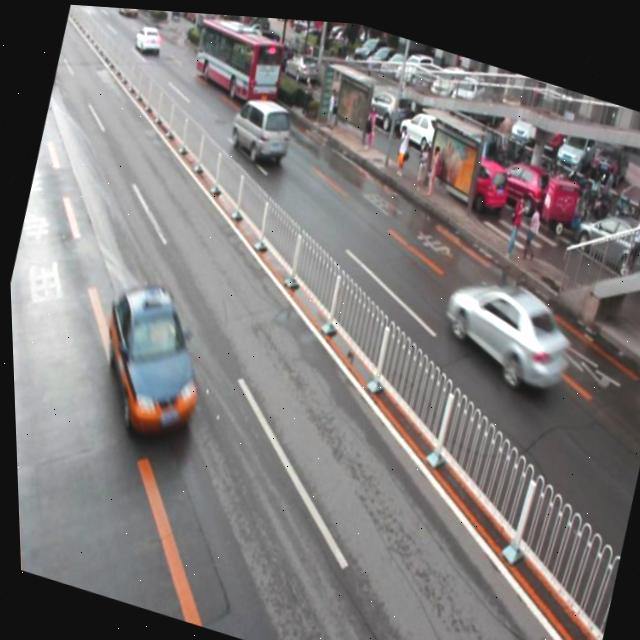car: (81, 267, 219, 444), (430, 257, 581, 392)
truck: (224, 86, 298, 166)
van: (187, 10, 289, 105)
